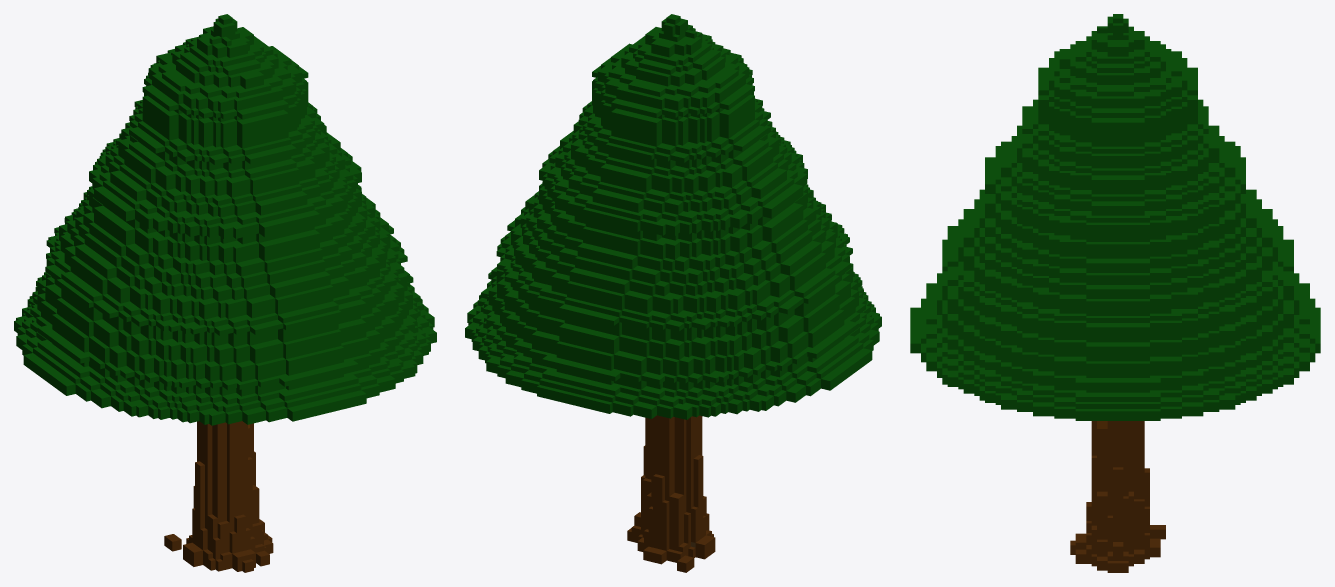
File: prop_tree_tanne.obj
3 renders of one model, left to right at view 1: azimuth 30°, elevation 25°; view 2: azimuth 150°, elevation 25°; view 3: azimuth 270°, elevation 25°, orthographic.
Bounding box in the file's own units: 7.7 × 11.1 × 7.7.
1 material, 1 textured.
